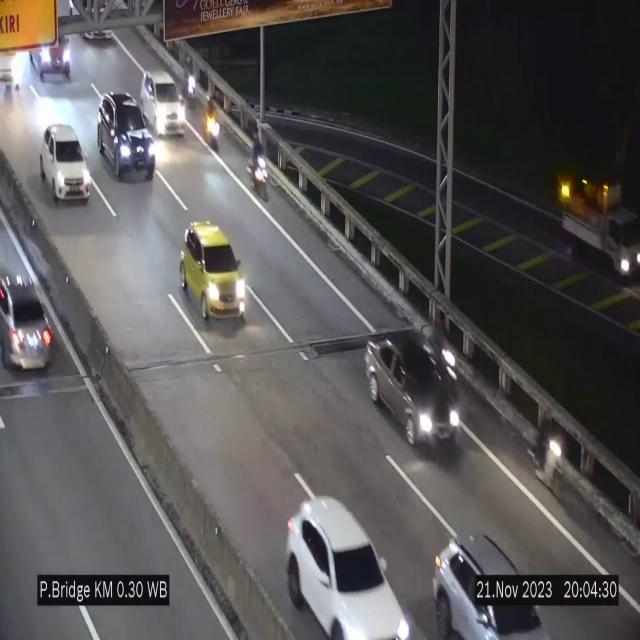Car: (286, 499, 409, 639), (435, 527, 553, 640), (364, 333, 461, 449), (180, 222, 248, 324), (0, 268, 59, 379), (98, 92, 154, 180), (40, 124, 90, 202), (140, 71, 186, 135), (31, 18, 76, 82)
Motorcycle: (534, 404, 568, 504), (425, 313, 459, 391), (247, 132, 270, 207), (203, 95, 225, 155)
Truck: (554, 165, 640, 308)
